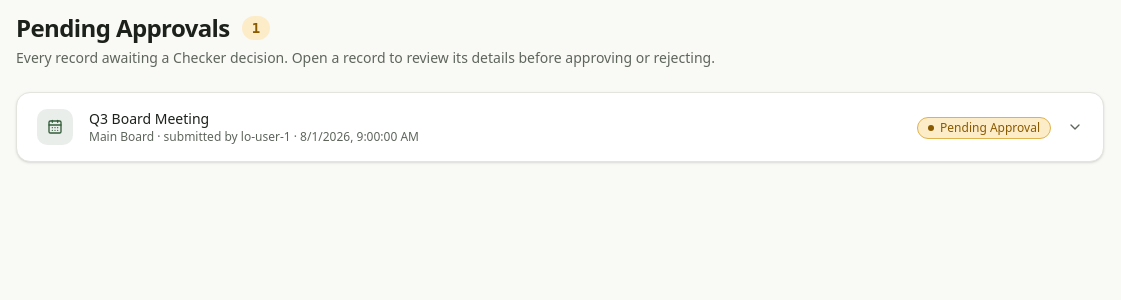
Test: PendingApprovals › lists a pending record and expands it to show Approve/Reject actions
Expected: the text "Q3 Board Meeting" is shown, [89,109,209,128]
Expected: the button "Approve" is not shown
Click the text "Main Board · submitted by lo-user-1 · 8/1/2026, 9:00:00 AM": (254, 136) [89,128,419,145]
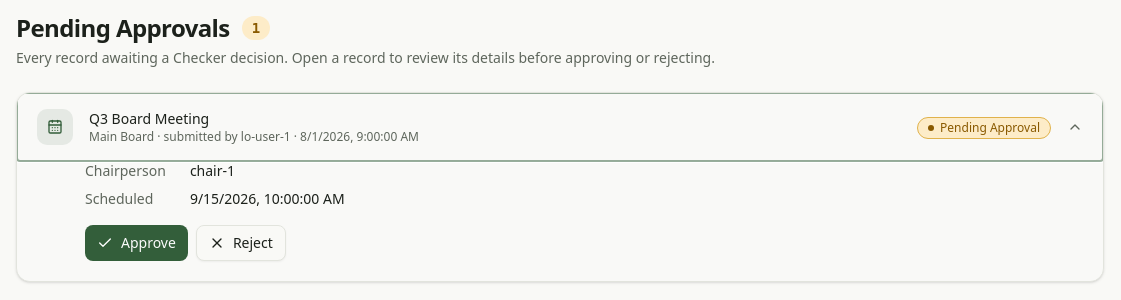
Now the button "Approve" is shown, box [85,225,188,261]
Now the button "Reject" is shown, box [196,225,286,261]
